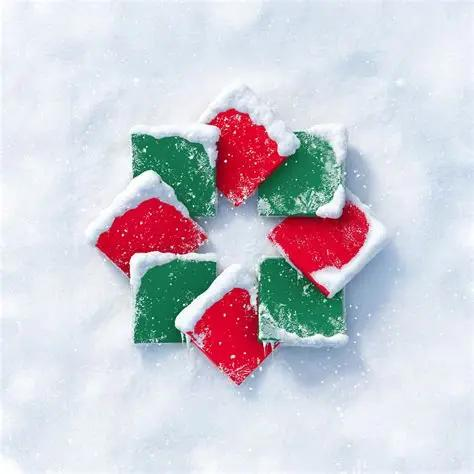Pasha Bank: (85, 78, 398, 391)
